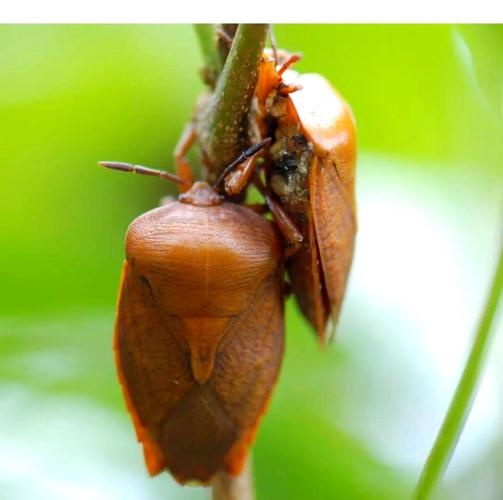Stink_Bug: (127, 188, 277, 478), (238, 60, 366, 313)
